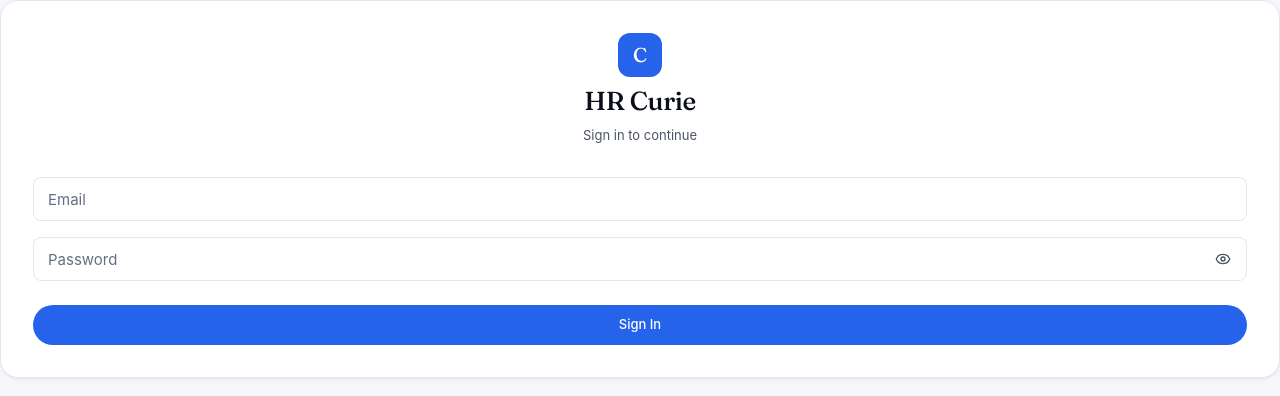
Test: LoginForm › loading state › disables button and hides Sign In text while submitting
In the field with placeholder "Email": (640, 199) [33, 177, 1247, 221], type "test@example.com"
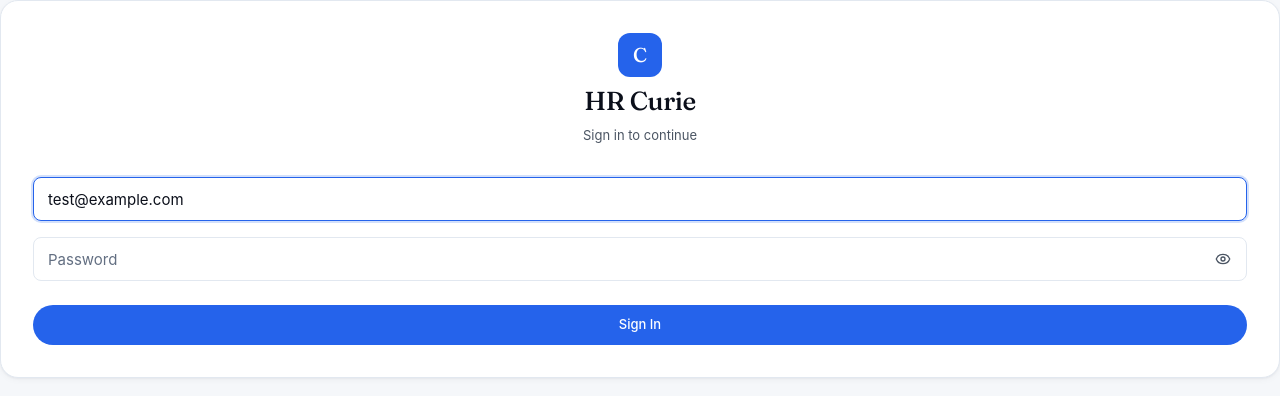
In the password field with placeholder "Password": (640, 259) [33, 237, 1247, 281], type "password123"
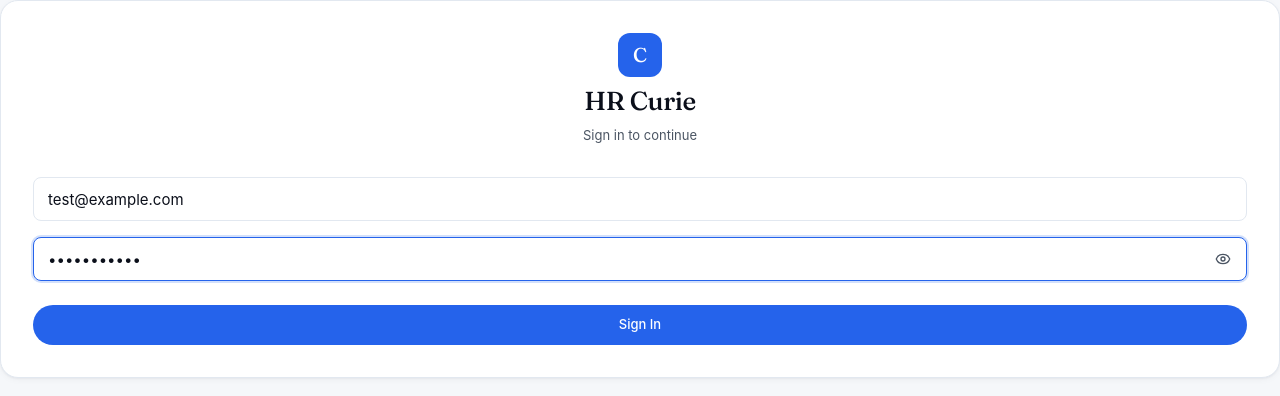
Click the button "Sign In": (640, 325) [33, 305, 1247, 345]
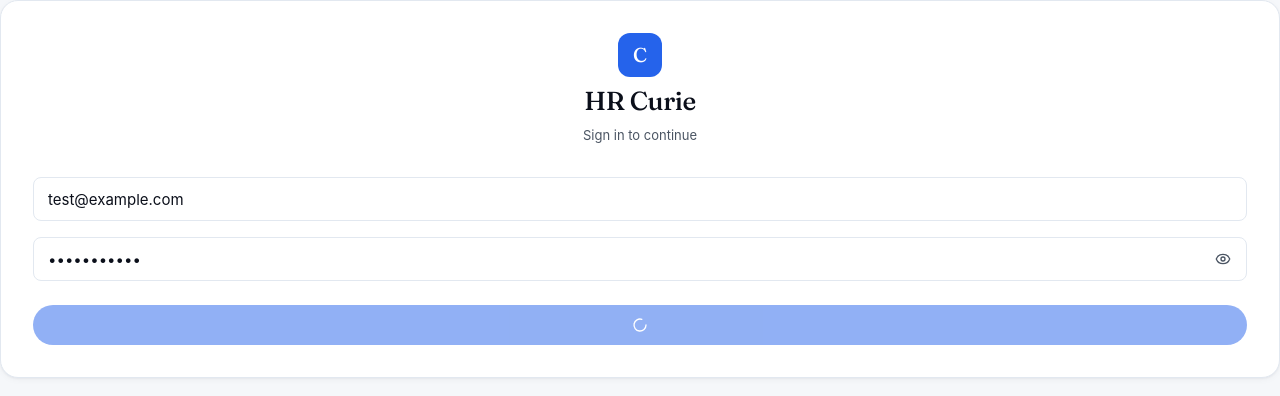
Expected: the 2nd button is disabled, [33, 305, 1247, 345]
